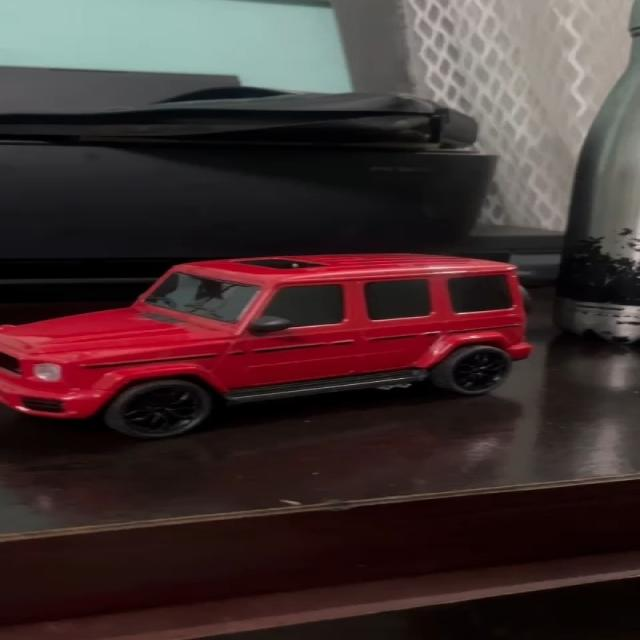light_vehicle: (0, 253, 531, 432)
